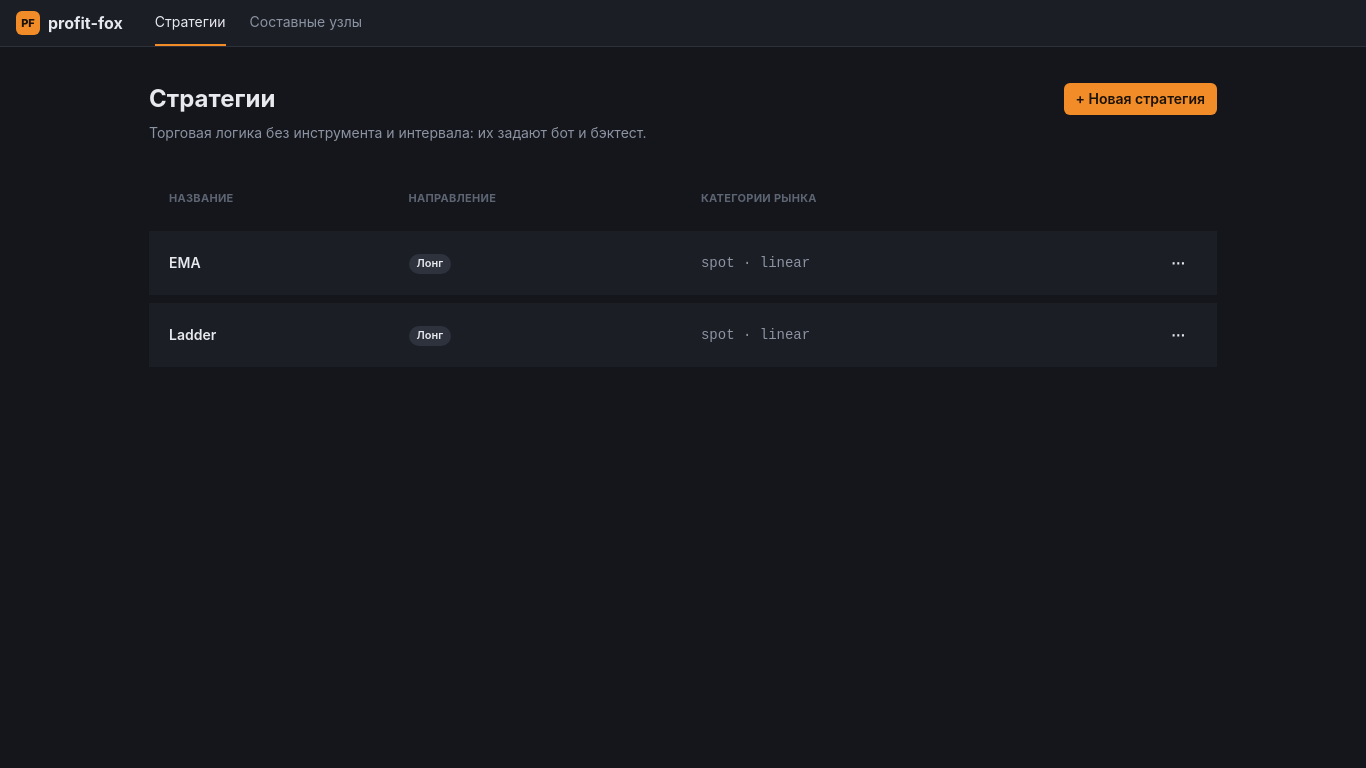
Test: strategy list actions › deletes a strategy without bots
Click the button "⋯" in the row of "EMA". click: (1178, 263)
box: [1159,247,1197,279]
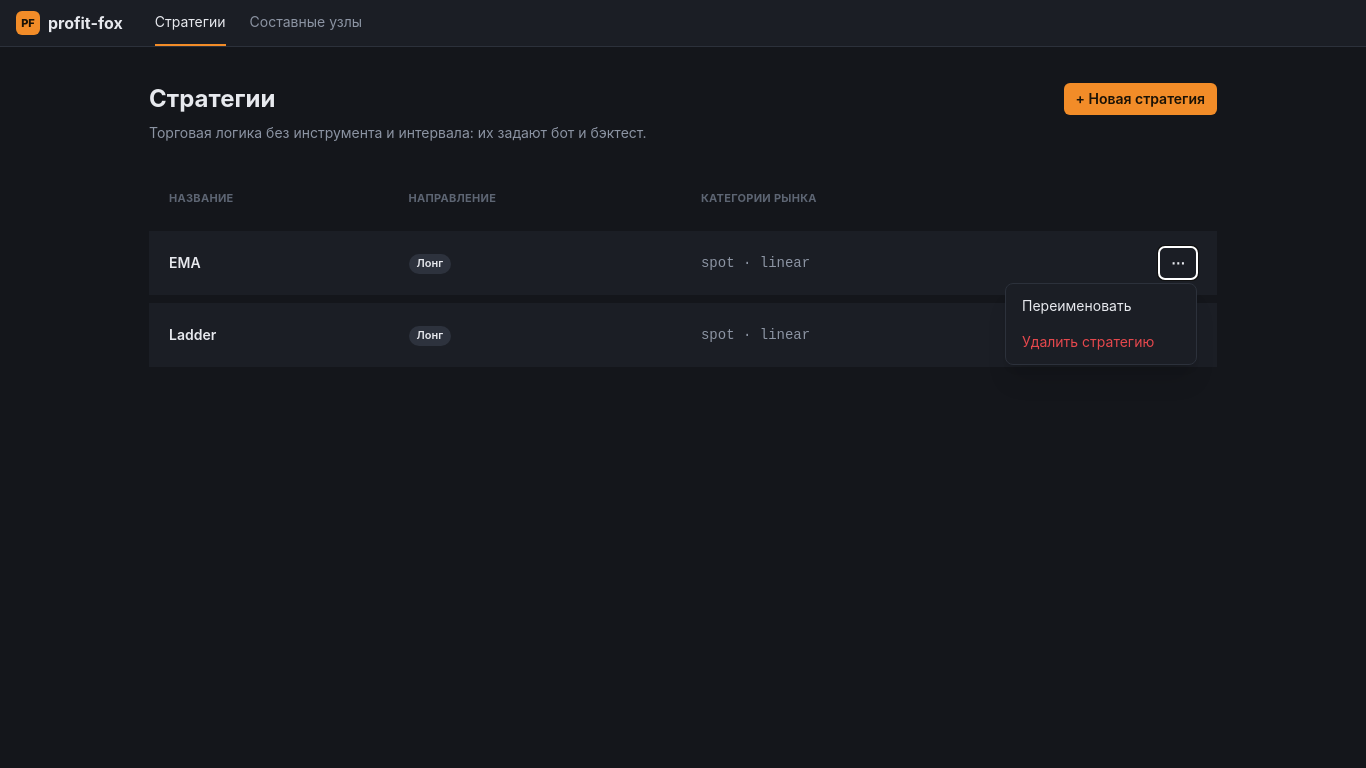
Click the menu item "Удалить стратегию". click: (1101, 342)
box: [1010,324,1192,360]
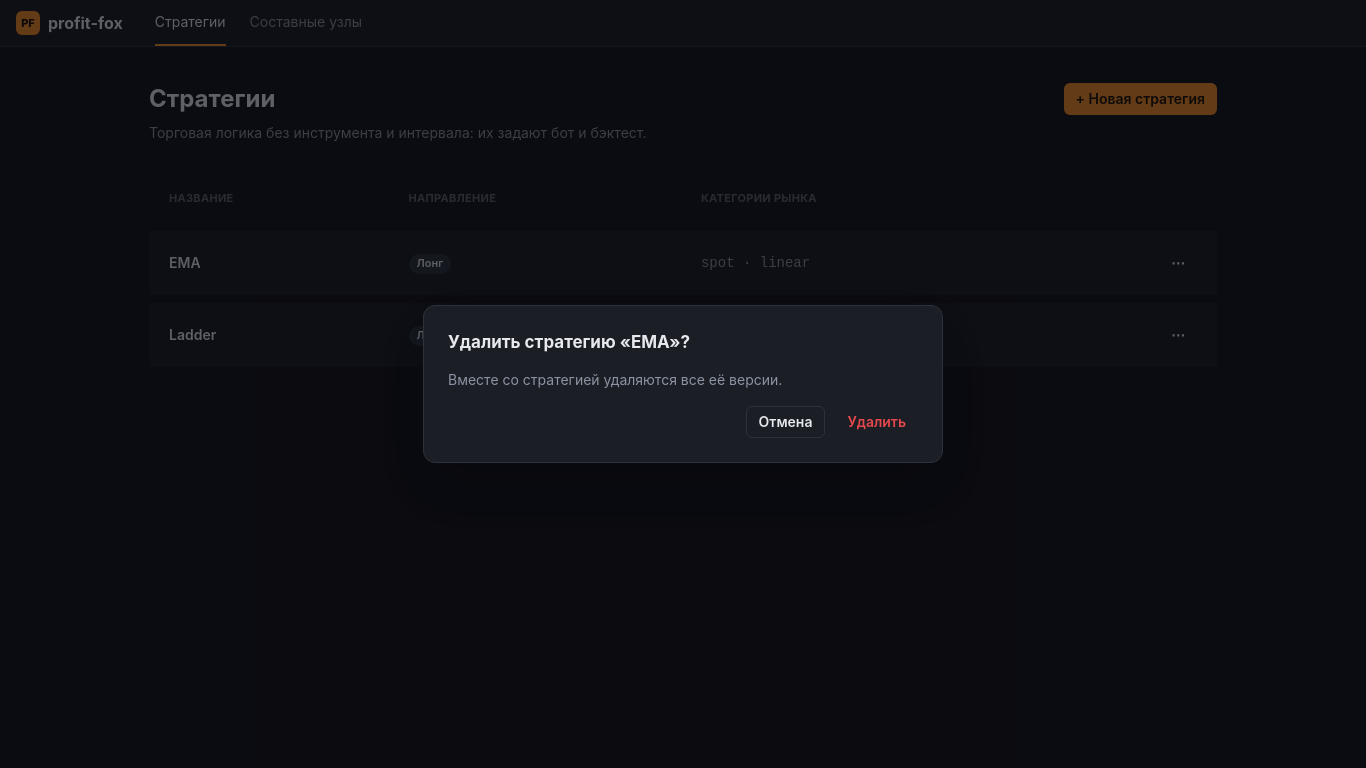
Click the button "Удалить". click: (877, 422)
box: [835,406,918,438]
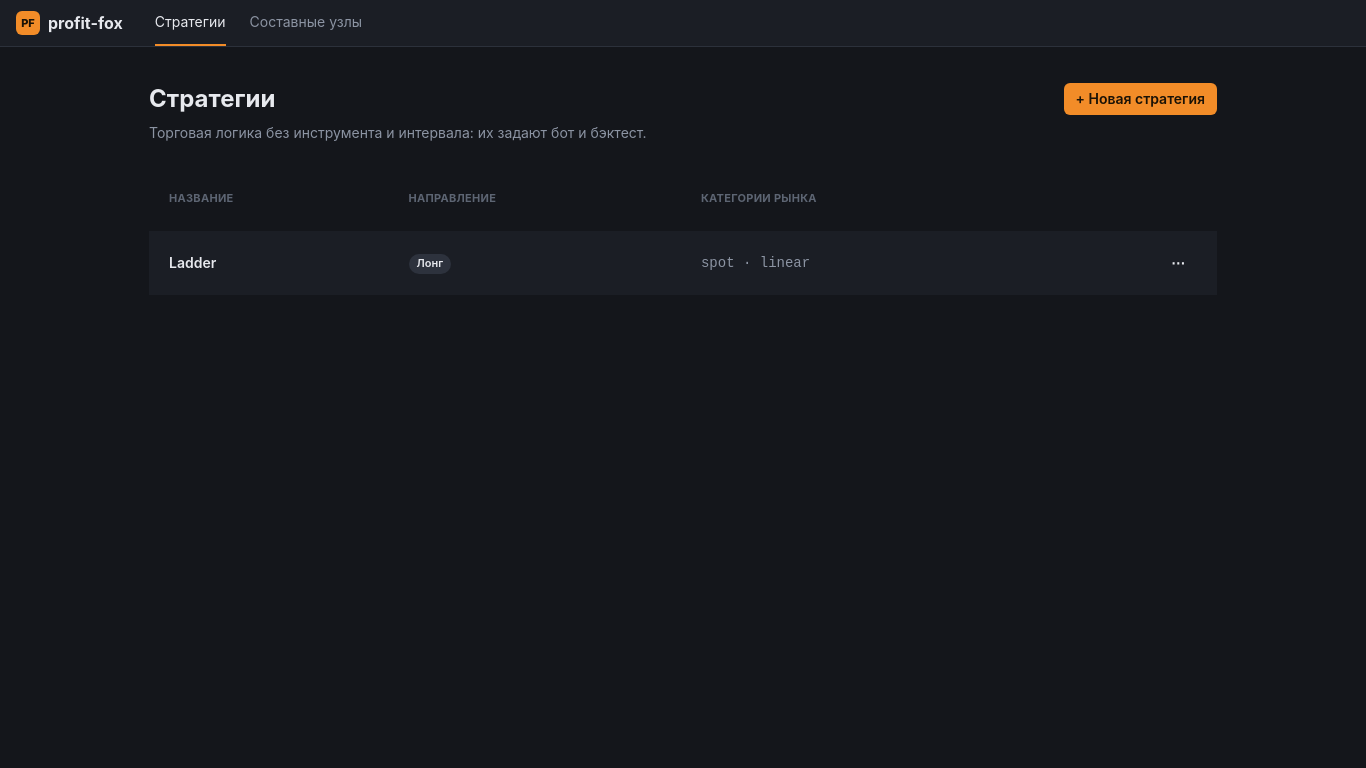
expect the link "Ladder" is shown: met, box [169,253,216,273]
expect the link "EMA" is gone: met
